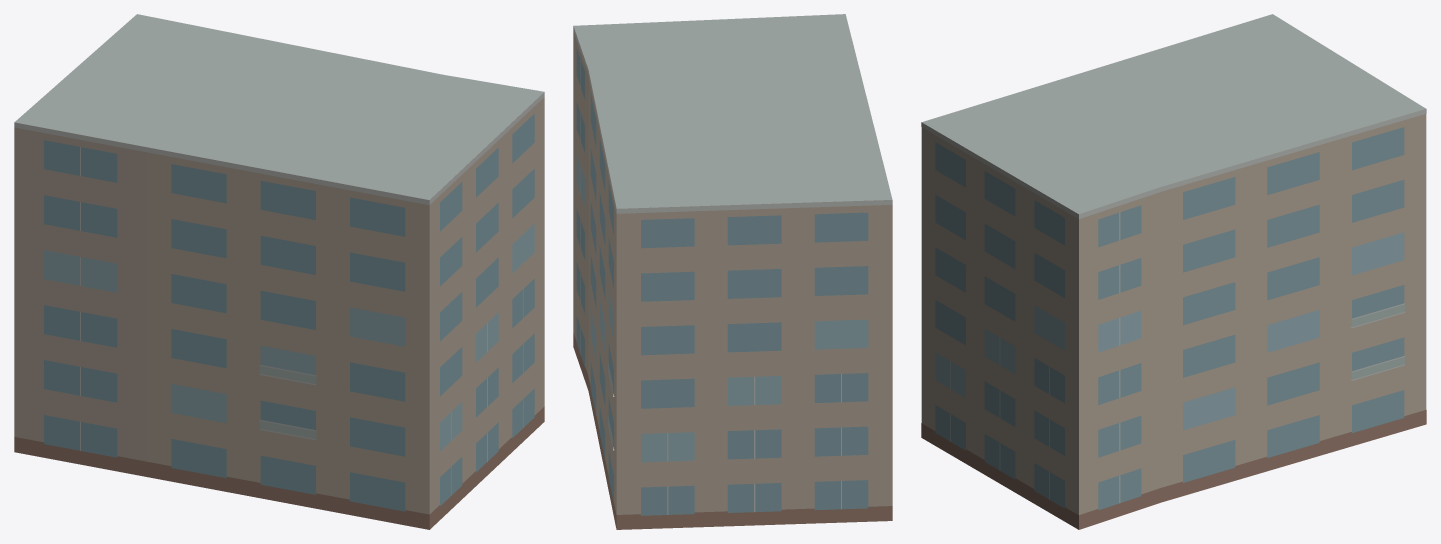
Rendered from survey-upis-32601172.glb.
The picture shows the model from 3 angles, left to right: view 1: azimuth 30°, elevation 25°; view 2: azimuth 150°, elevation 25°; view 3: azimuth 270°, elevation 25°; orthographic projection. The views are drawn at different scales.
Visible parts, largest first — view 1: survey-upis-32601172.tmp; view 2: survey-upis-32601172.tmp; view 3: survey-upis-32601172.tmp.
Part boxes in pixels (x1,y1,x2,y2): survey-upis-32601172.tmp: (14,14,544,529); survey-upis-32601172.tmp: (573,14,892,529); survey-upis-32601172.tmp: (921,14,1426,529).
Size of the model in its own units: 21.66 by 15.9 by 23.07.
